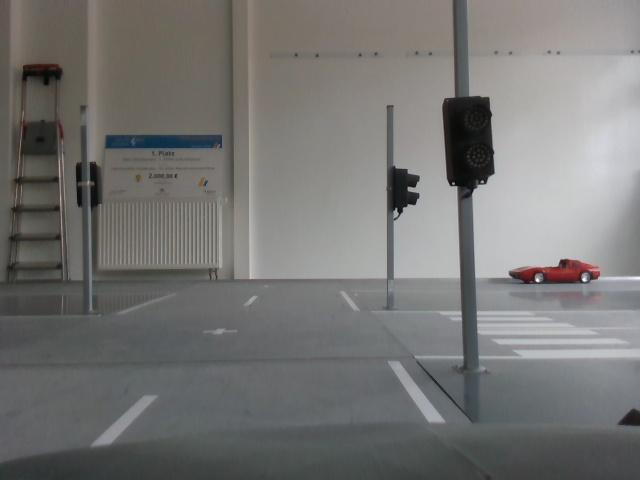car: (511, 255, 599, 291)
traffic light: (442, 91, 502, 193), (387, 166, 424, 214), (72, 165, 105, 202)
